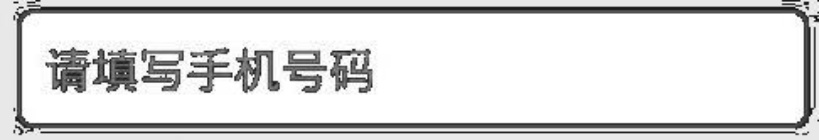EditText: (1, 1, 818, 139)
